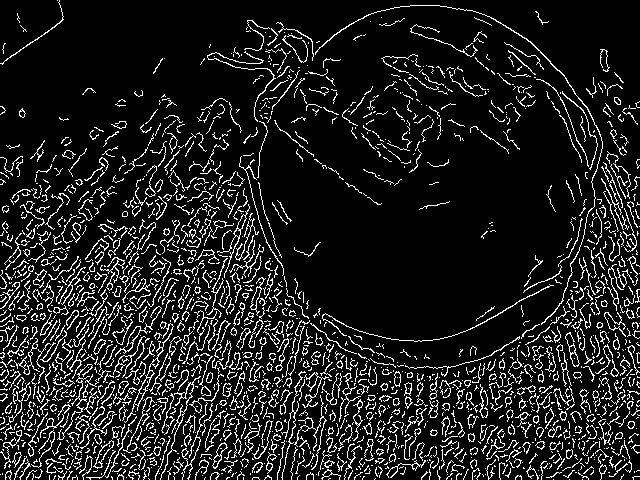onion: (208, 6, 606, 373)
